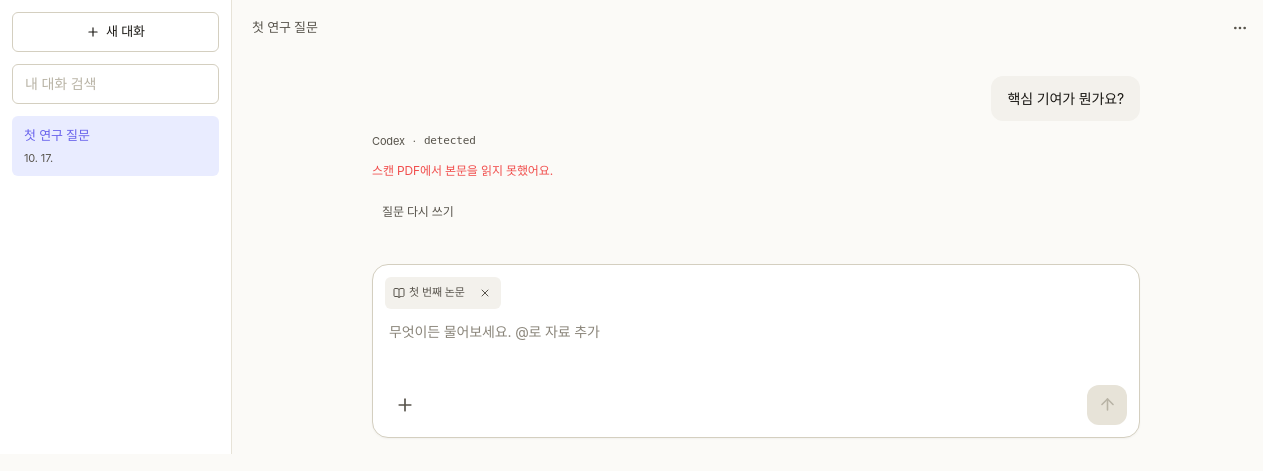
AI 연구 채팅 › 자료 준비 실패는 답변에 표시하고 다시 쓰기로 질문을 보존한다
expect the text "스캔 PDF에서 본문을 읽지 못했어요." is shown: met, box x1=372 y1=162 x2=553 y2=178
What coordinates should you click on to do the following:
click the button "질문 다시 쓰기"
I would click on:
 (418, 212)
Its box is x1=372 y1=192 x2=464 y2=232.
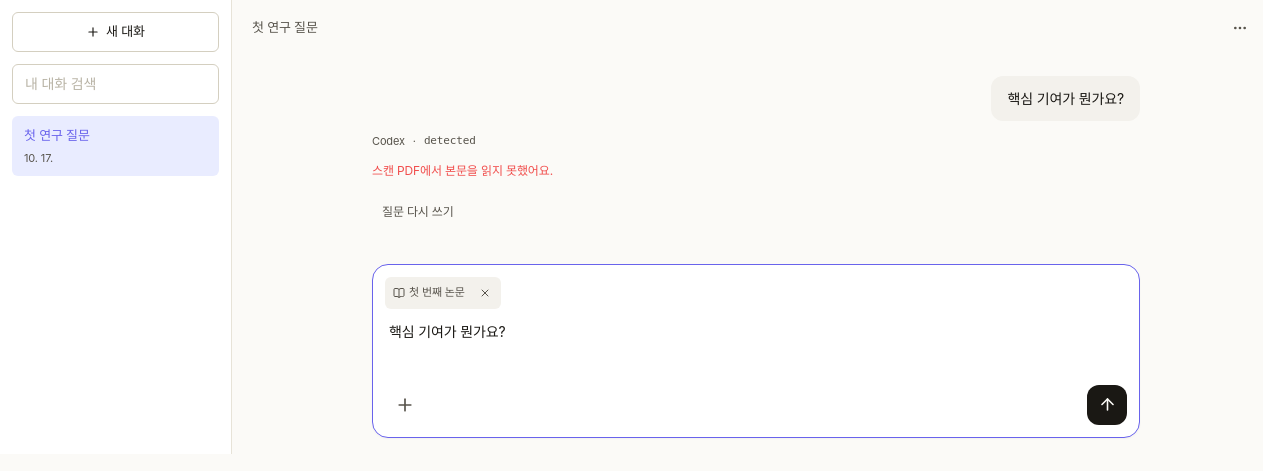
expect the text box named "연구 질문" holds "핵심 기여가 뭔가요?": met, box x1=385 y1=316 x2=1127 y2=380
expect the button named "보내기" is enabled: met, box x1=1087 y1=384 x2=1127 y2=424
